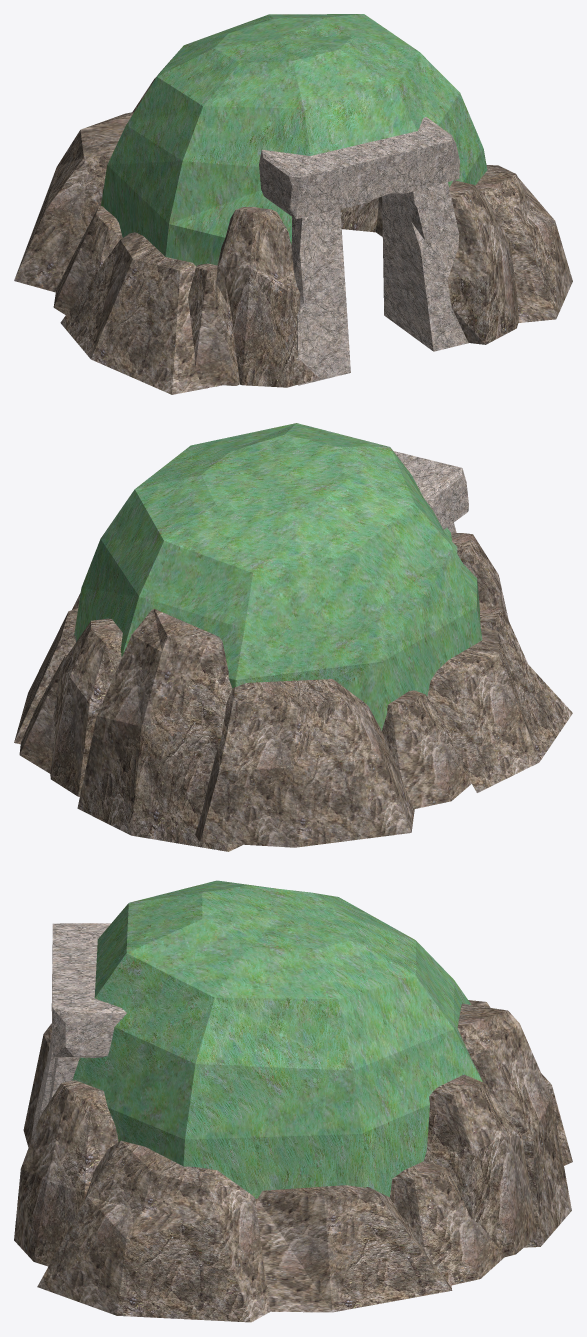
Rendered from thm_dath_mtn_clan_hut_s01_l1.fbx.
3 renders of one model, top to bottom at view 1: azimuth 30°, elevation 25°; view 2: azimuth 150°, elevation 25°; view 3: azimuth 270°, elevation 25°, orthographic. The views are drawn at different scales.
Parts seen in each view (by area): view 1: mesh_node; view 2: mesh_node; view 3: mesh_node.
Part boxes in pixels (x1,y1,x2,y2): mesh_node: (14,14,572,394); mesh_node: (14,423,572,851); mesh_node: (14,880,572,1322).
Size of the model in its own units: 13.13 by 7.25 by 12.27.
